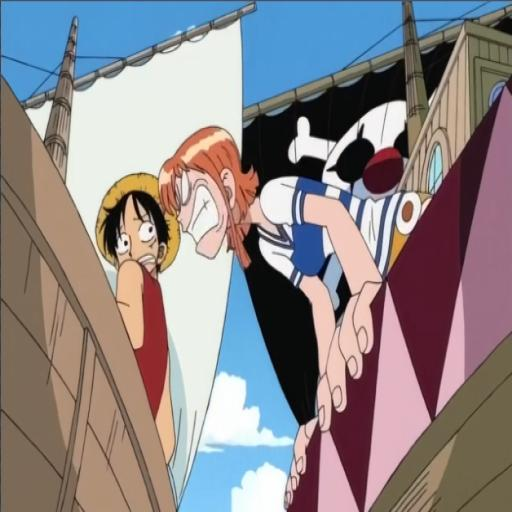Luffy: (72, 154, 179, 438)
Nami: (162, 114, 401, 415)
